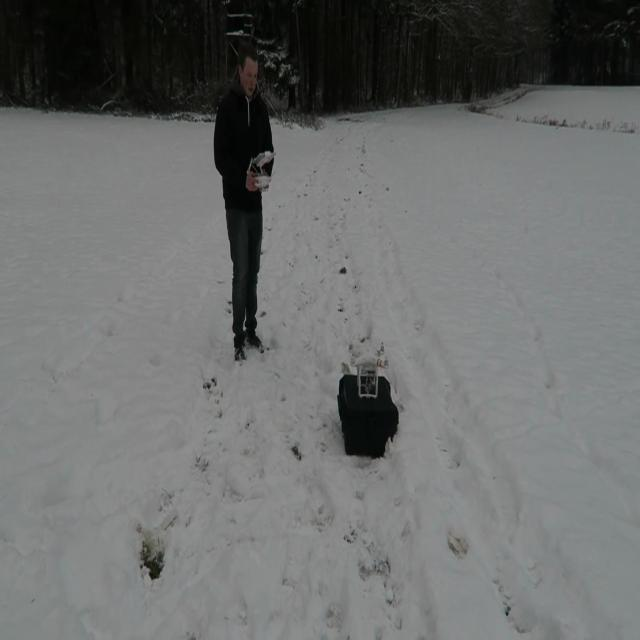drone: (347, 339, 391, 398)
